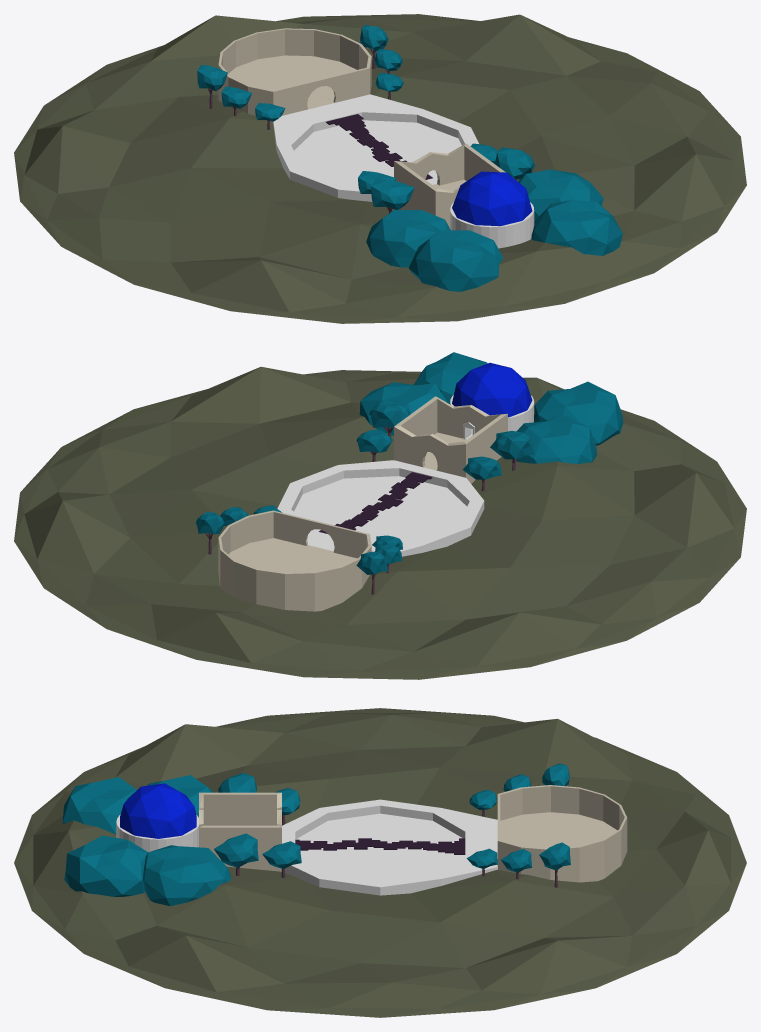
The model's file is galleries4.dae.
The picture shows the model from 3 angles, top to bottom: view 1: azimuth 30°, elevation 25°; view 2: azimuth 150°, elevation 25°; view 3: azimuth 270°, elevation 25°; orthographic projection.
Visible parts, largest first — view 1: Icosphere_002, Cylinder_001, Cylinder_002, tree-canopy_010, Cube, tree-canopy_011, roof-dome, tree-canopy_009, tree-canopy_008, Cylinder, Cube_029, tree-canopy_013 (+4 smaller); view 2: Icosphere_002, Cylinder_001, Cylinder_002, Cube, tree-canopy_010, roof-dome, tree-canopy_009, tree-canopy_008, tree-canopy_011, Cube_029, tree-canopy_013, tree-canopy_012 (+3 smaller); view 3: Icosphere_002, Cylinder_001, Cylinder_002, Cube, tree-canopy_011, tree-canopy_008, roof-dome, tree-canopy_010, Cube_029, tree-canopy_012, Cylinder, tree-canopy_009 (+5 smaller).
Boxes of the visible parts, x1,y1,x2,y2 form: Icosphere_002: (14,14,746,323); Cylinder_001: (273,94,478,201); Cylinder_002: (218,28,371,115); tree-canopy_010: (408,230,502,291); Cube: (394,143,505,228); tree-canopy_011: (531,200,622,255); roof-dome: (452,171,532,226); tree-canopy_009: (366,210,450,267); tree-canopy_008: (518,169,603,222); Cylinder: (450,202,534,248); Cube_029: (326,114,432,179); tree-canopy_013: (371,178,414,209); Icosphere_002: (14,366,746,679); Cylinder_001: (277,460,484,556); Cylinder_002: (218,510,371,611); Cube: (394,396,507,483); tree-canopy_010: (534,381,623,445); roof-dome: (452,362,532,417); tree-canopy_009: (516,414,597,463); tree-canopy_008: (359,382,448,435); tree-canopy_011: (414,352,487,404); Cube_029: (319,472,432,533); tree-canopy_013: (490,430,534,459); tree-canopy_012: (369,400,410,428); Icosphere_002: (14,708,746,1017); Cylinder_001: (281,799,497,895); Cylinder_002: (497,785,627,882); Cube: (199,792,281,871); tree-canopy_011: (64,835,147,896); tree-canopy_008: (142,845,231,906); roof-dome: (120,783,196,838); tree-canopy_010: (62,777,136,834); Cube_029: (295,838,465,854); tree-canopy_012: (214,833,258,867); Cylinder: (116,814,198,852); tree-canopy_009: (147,775,213,817).
Size of the model in its own units: 44.91 by 44.91 by 5.99.
